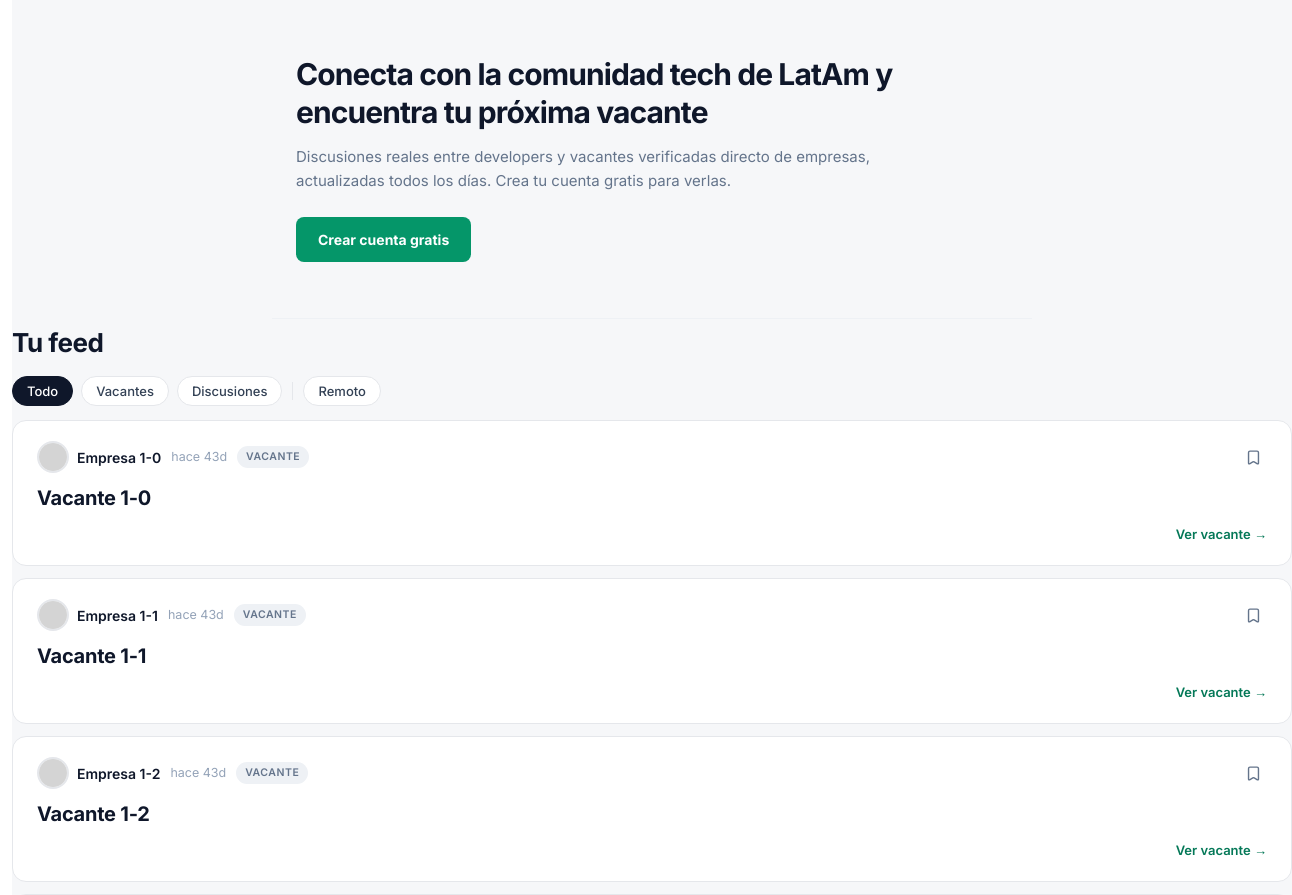
Test: what each view shows while more vacancies can still arrive › "Discusiones" shows the articles and discussions that exist (they used to wait forever for vacancies that were hidden: an empty list)
Expected: the heading "Vacante 1-0" is shown, [37,486,151,510]
Step 1. Click the button "Discusiones" → (230, 391), box [177,376,282,406]
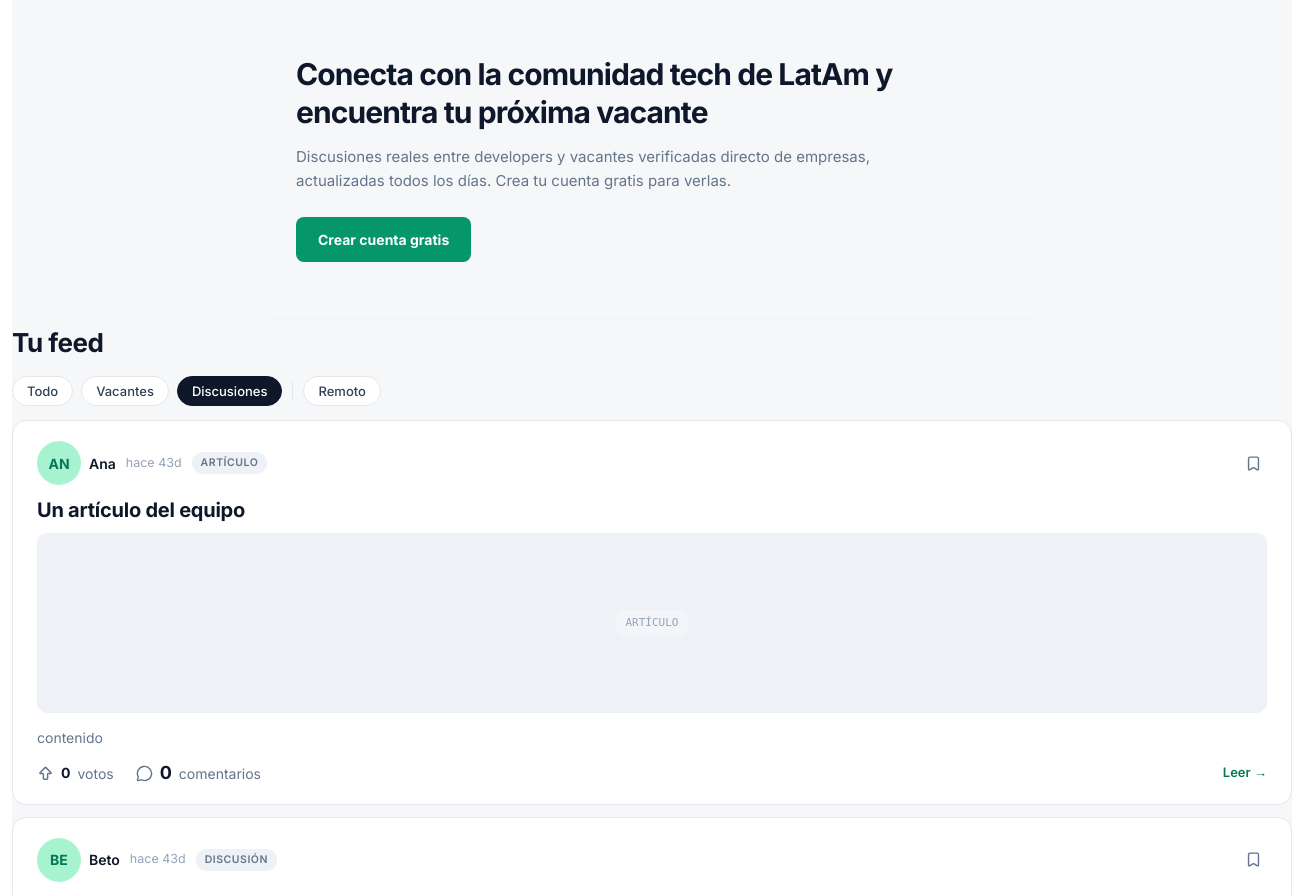
Expected: the heading "Un artículo del equipo" is shown, [37,498,245,522]
Expected: the heading "Vacante 1-0" is gone
